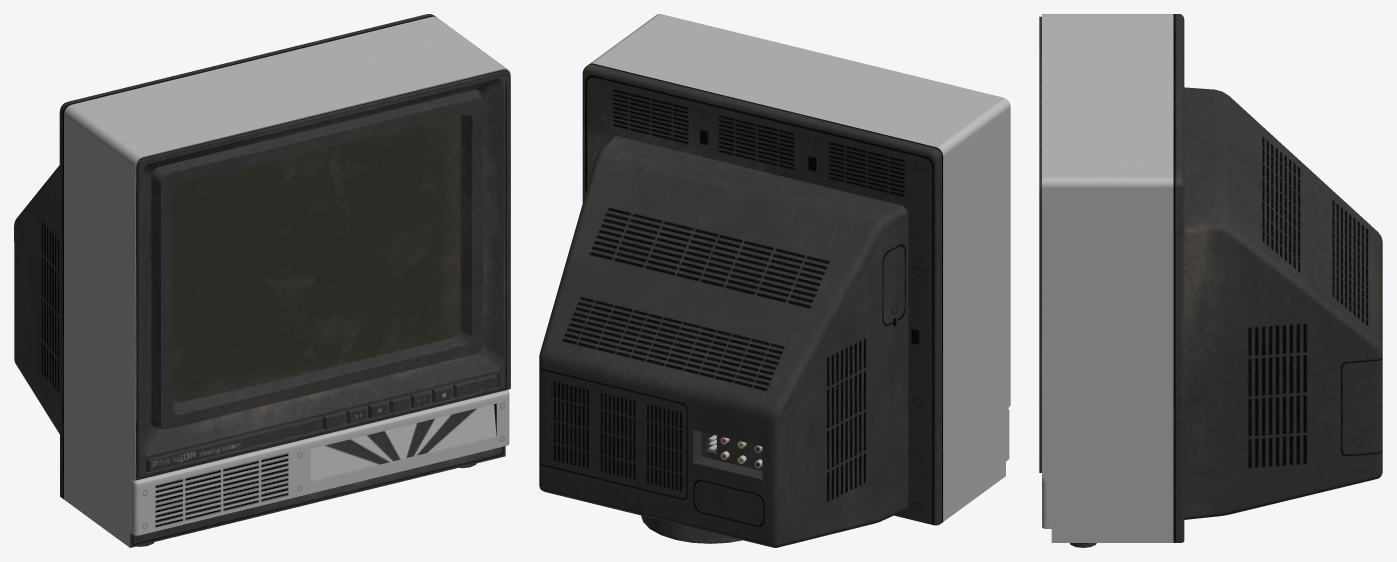
The model's file is television_02_2k_02.fbx.
3 renders of one model, left to right at view 1: azimuth 30°, elevation 25°; view 2: azimuth 150°, elevation 25°; view 3: azimuth 270°, elevation 25°, orthographic. The views are drawn at different scales.
Parts seen in each view (by area): view 1: television_02; view 2: television_02; view 3: television_02.
Boxes of the visible parts, x1,y1,x2,y2 form: television_02: [14, 14, 510, 547]; television_02: [539, 14, 1010, 547]; television_02: [1039, 14, 1382, 547].
Size of the model in its own units: 0.3997 by 0.4114 by 0.343.
Materials: 1 (1 with a texture image).
